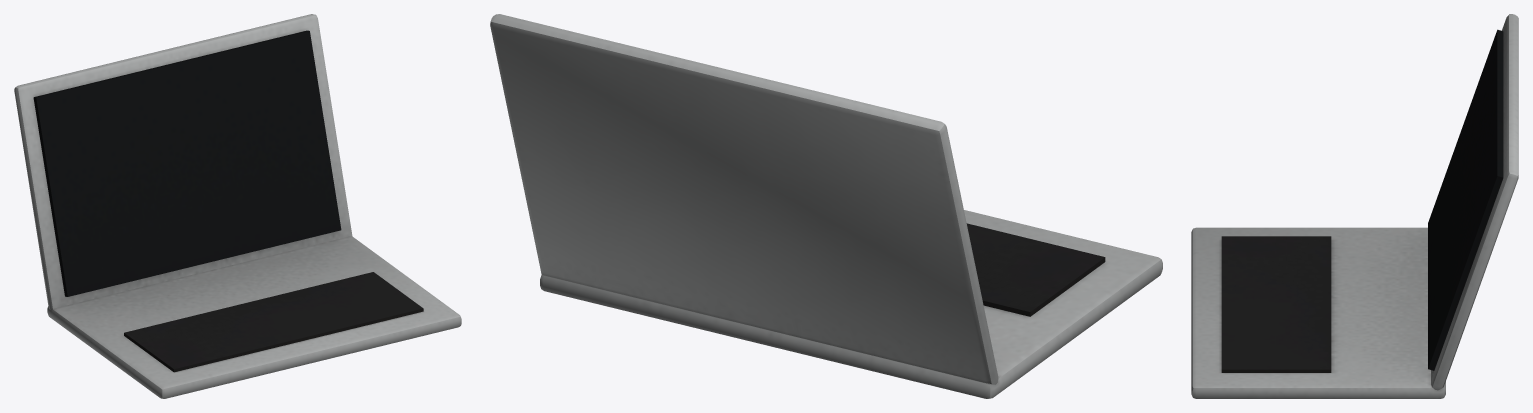
Rendered from H_Laptop.fbx.
3 views of the same model, side by side, from view 1: azimuth 30°, elevation 25°; view 2: azimuth 150°, elevation 25°; view 3: azimuth 270°, elevation 25° (orthographic). The views are drawn at different scales.
Parts seen in each view (by area): view 1: H_Laptop; view 2: H_Laptop; view 3: H_Laptop.
Part boxes in pixels (x1,y1,x2,y2): H_Laptop: (14, 14, 461, 398); H_Laptop: (490, 14, 1162, 398); H_Laptop: (1191, 14, 1518, 398).
Bounding box in the file's own units: 150 × 98.51 × 129.
Materials: 1 (1 with a texture image).
